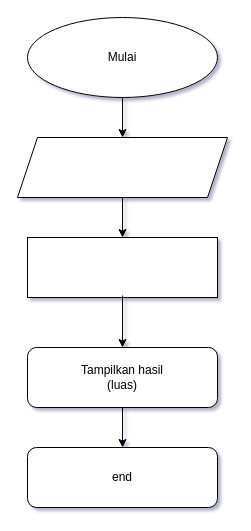
Image size: 251x531. Some labels were removed from this diagram. The shapes that lost their labels are listed below. From the top down, each one's centre as x and y in pixels, then its label:
the point at 122,167: Input jari jari lingkaran (r)
the point at 122,267: hitung luas lingkaran luas= π x r^2
